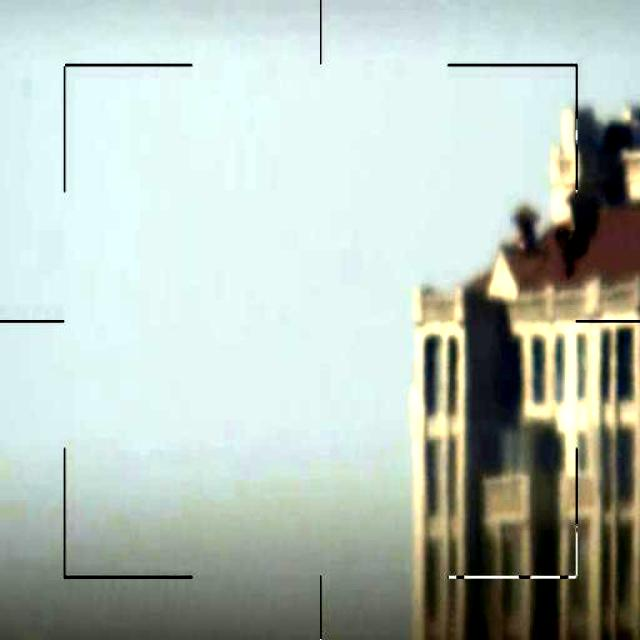bird: (549, 206, 595, 285)
